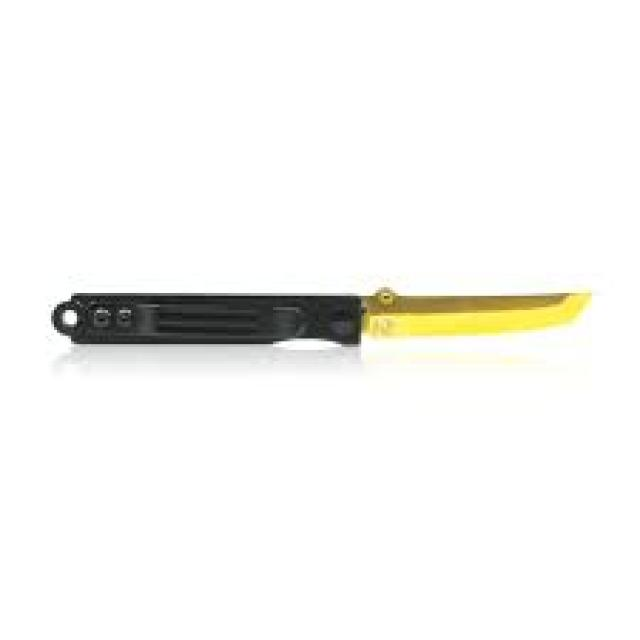knife: (48, 289, 598, 353)
